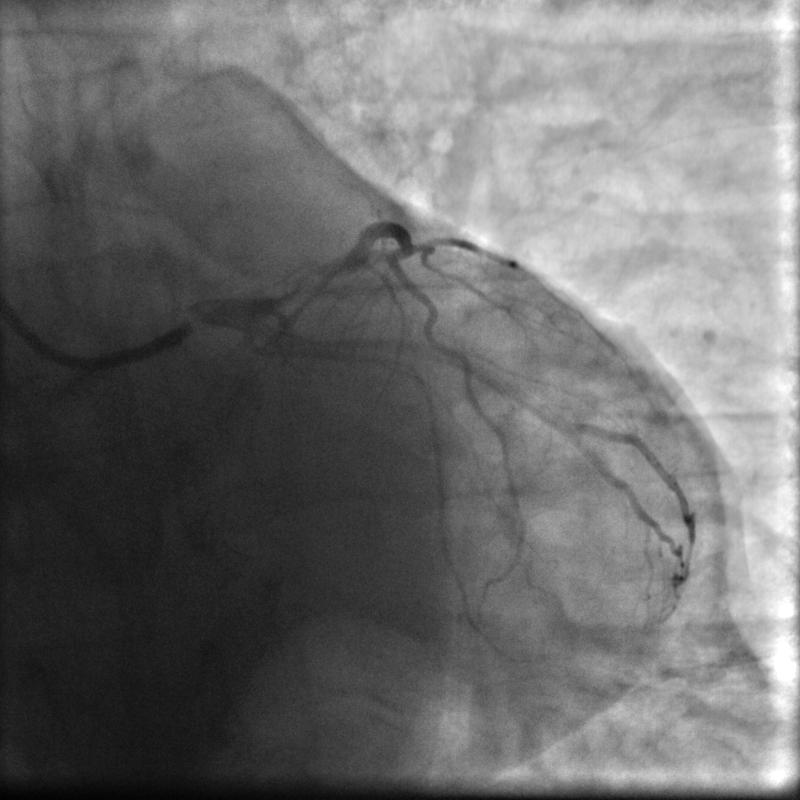Stenosis: (272, 258, 358, 300)
